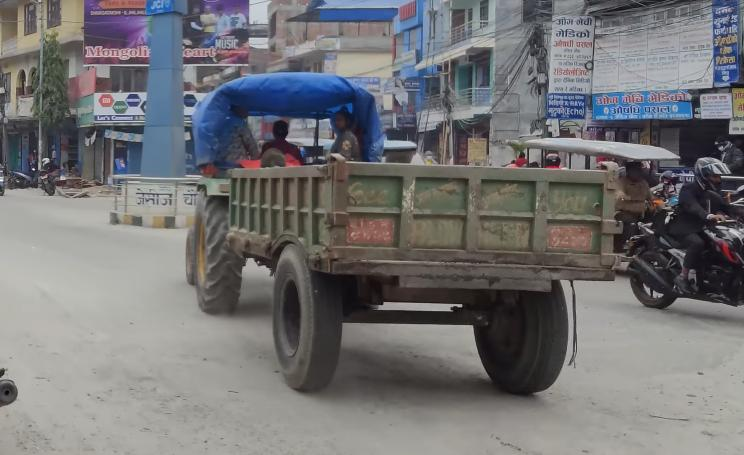bike: (623, 201, 744, 314), (33, 161, 62, 198)
tractor: (176, 68, 631, 403)
